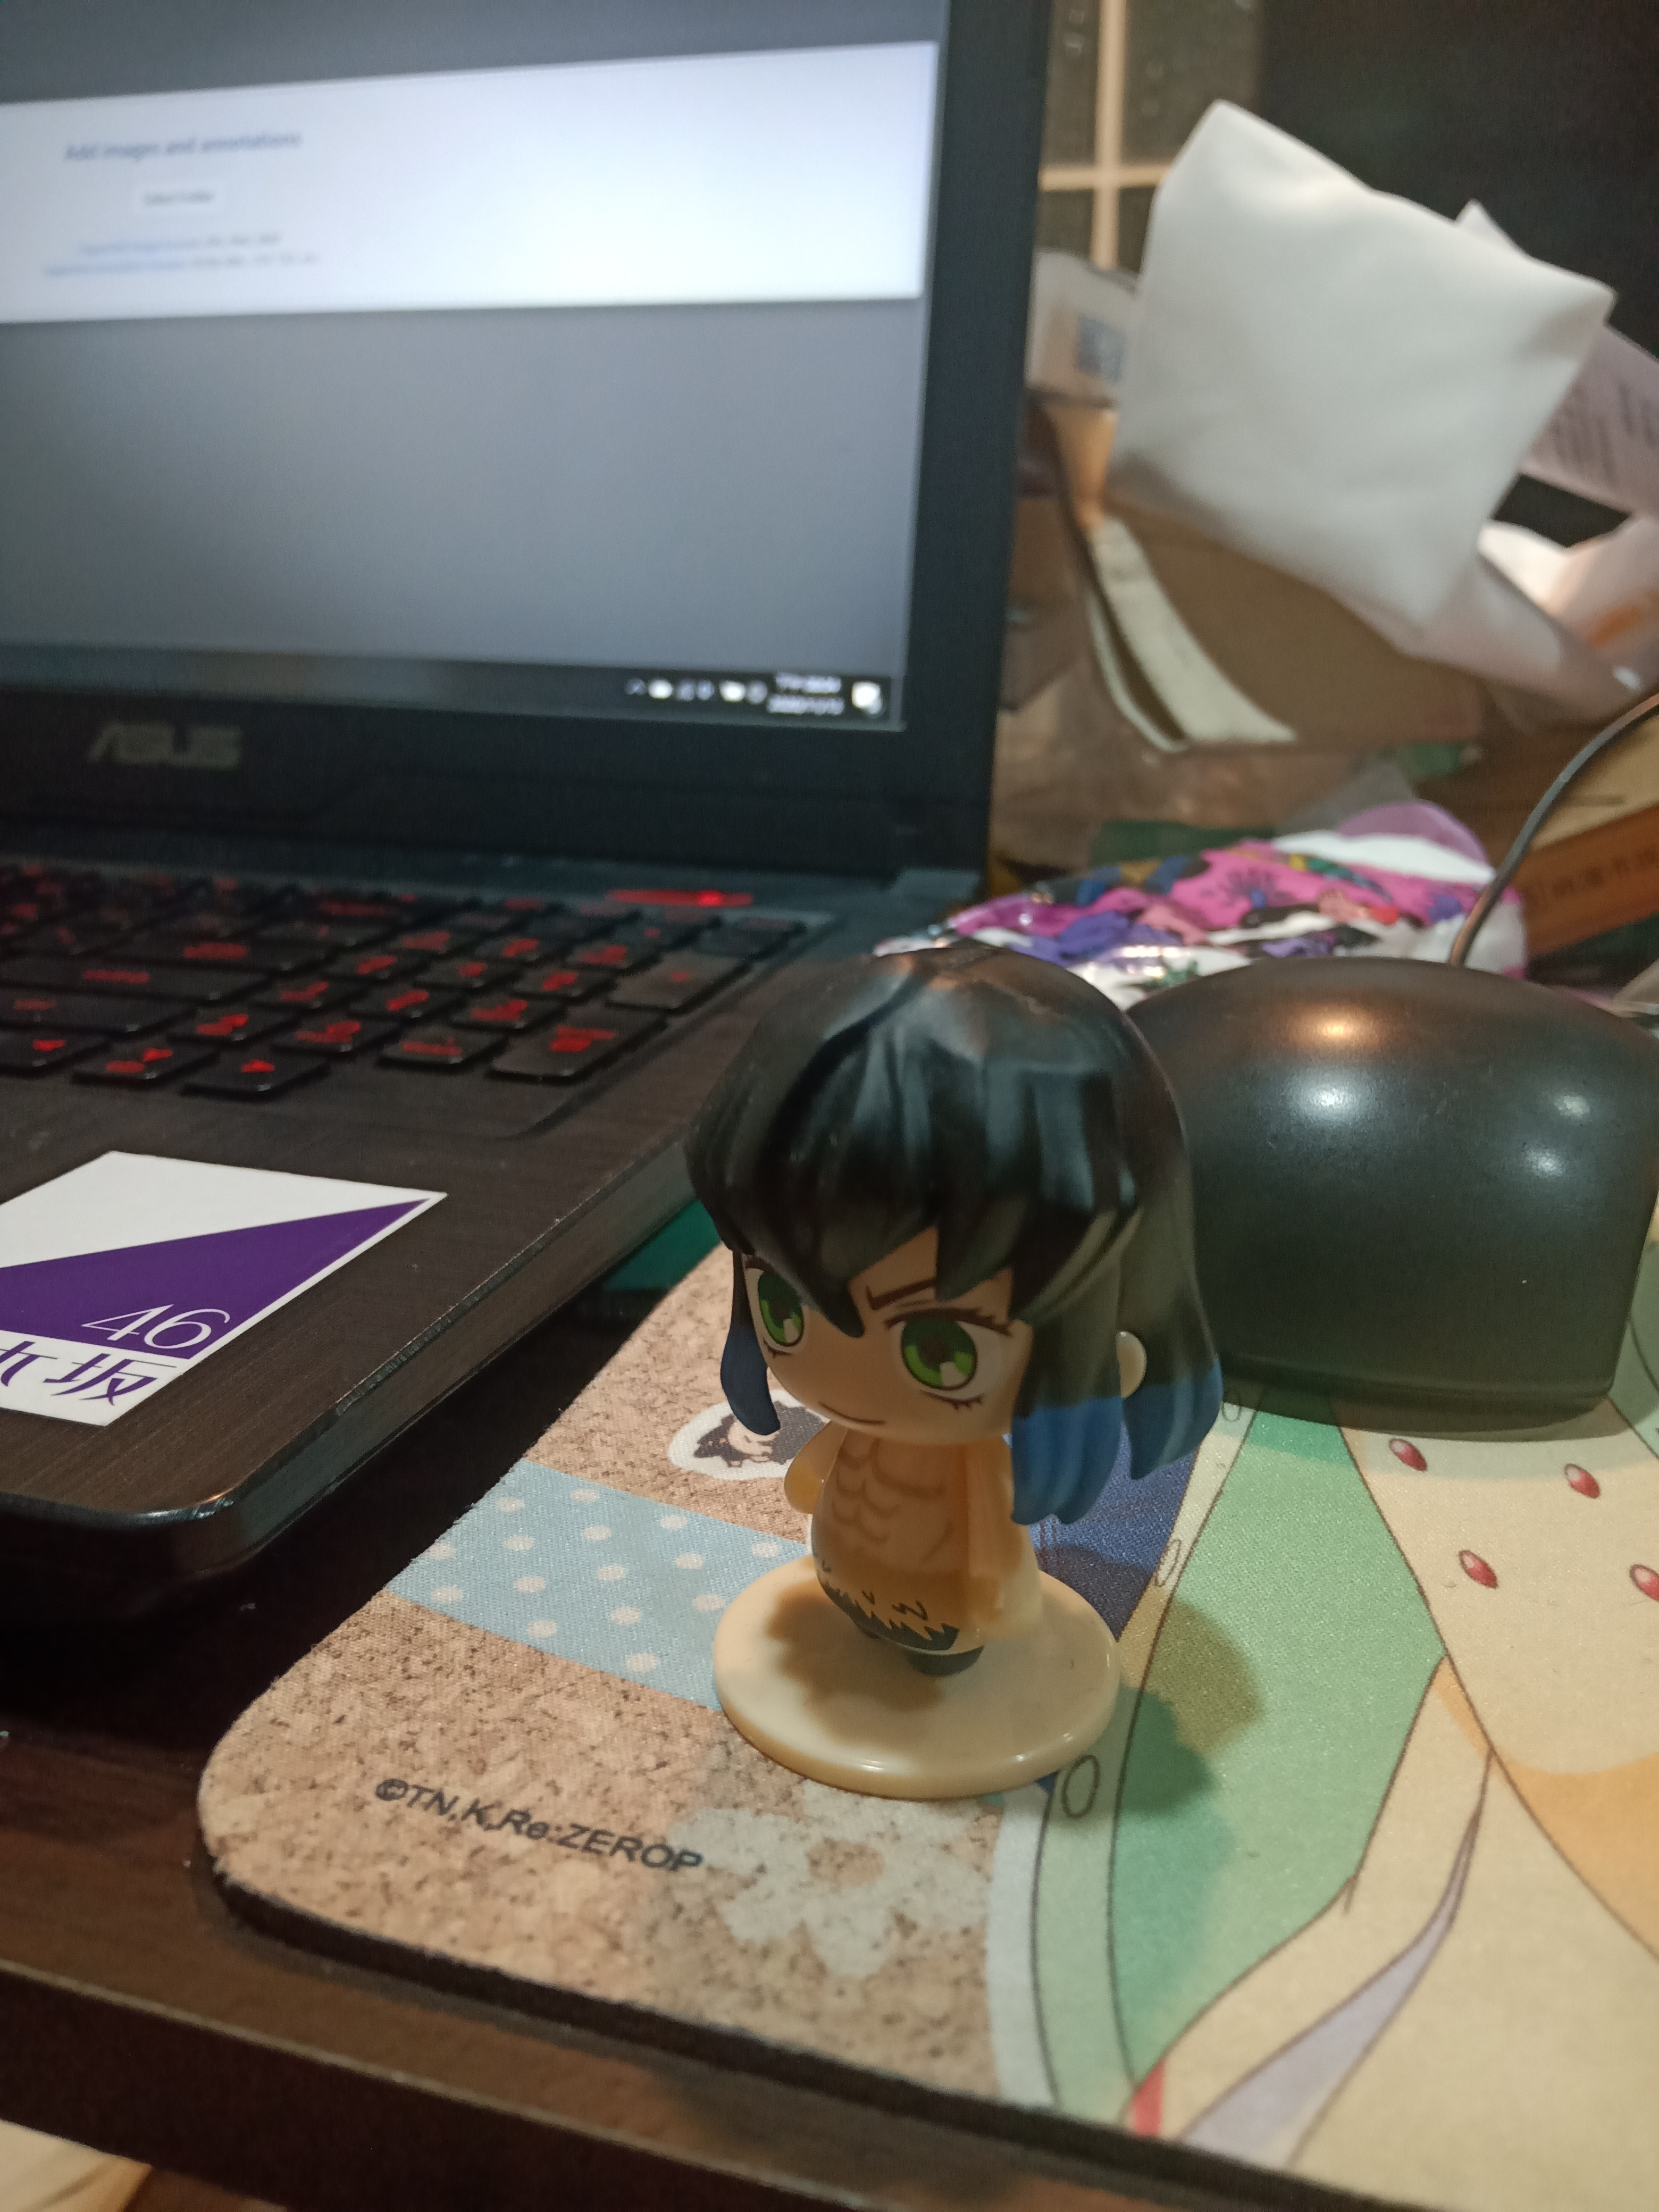Inosuke: (673, 918, 1236, 1813)
